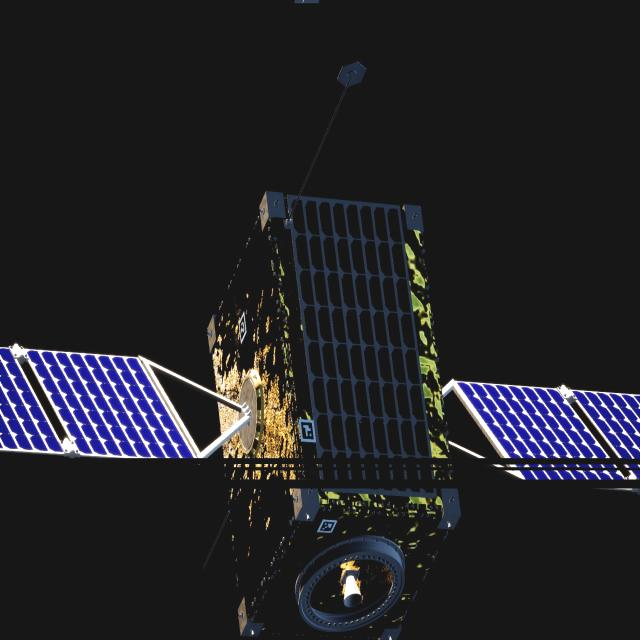medium_debris: (0, 193, 640, 640)
